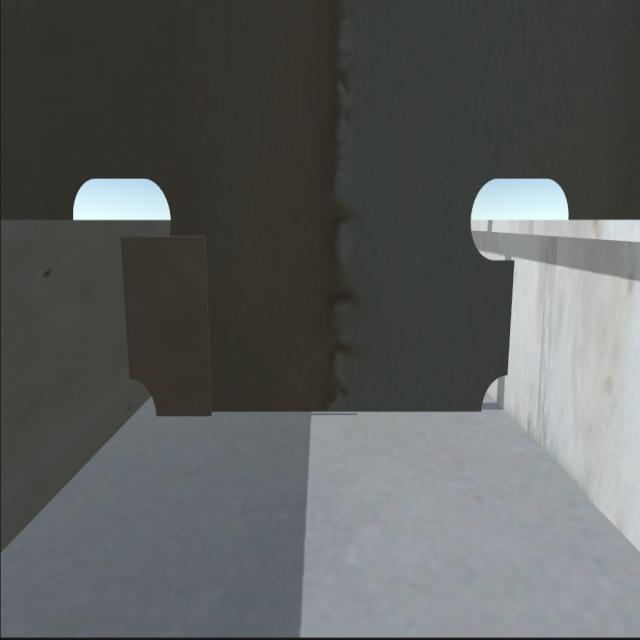fillet_hole: (475, 360, 509, 415), (129, 371, 160, 422)
fillet_yong_jeop_jang: (155, 402, 479, 417)
longi_yong_jeop_jang: (119, 232, 139, 384), (503, 261, 518, 380)
plate_CP01: (119, 229, 212, 424)
